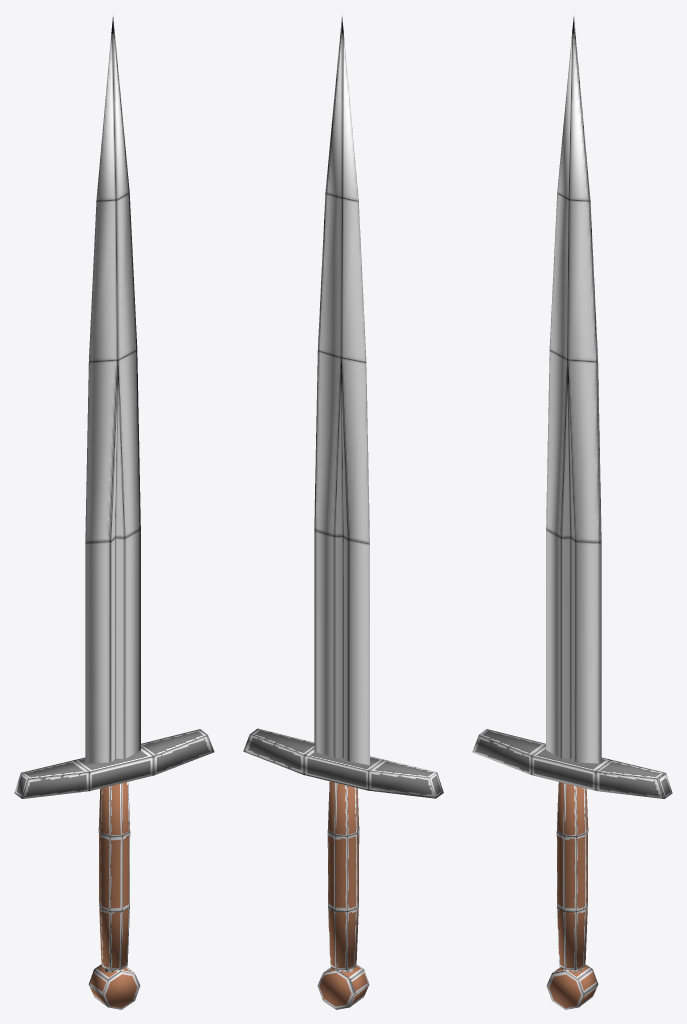
File: longswordModel.dae
3 renders of one model, left to right at view 1: azimuth 30°, elevation 25°; view 2: azimuth 150°, elevation 25°; view 3: azimuth 330°, elevation 25°, orthographic.
Visible parts, largest first — view 1: Longsword; view 2: Longsword; view 3: Longsword.
Part boxes in pixels (left/top/right/bottom): Longsword: left=14, top=15, right=214, bottom=1009; Longsword: left=243, top=15, right=443, bottom=1009; Longsword: left=472, top=15, right=672, bottom=1009.
Bounding box in the file's own units: 0.6001 × 0.0877 × 2.95.
